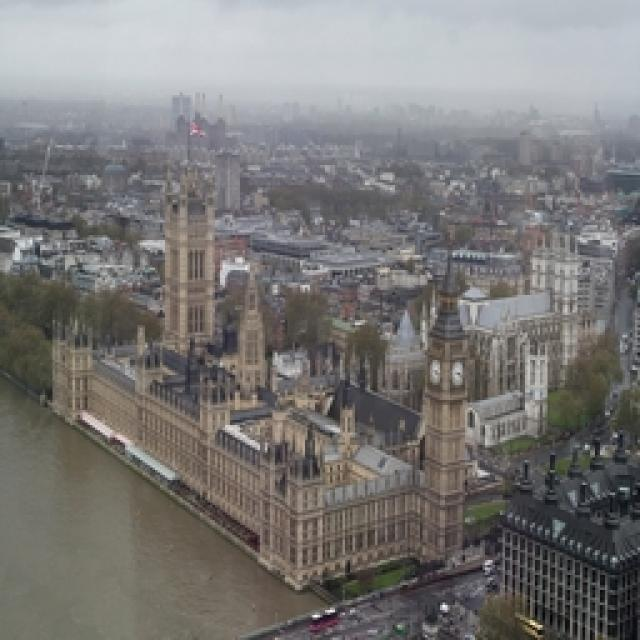Abbey: (67, 308, 486, 549)
